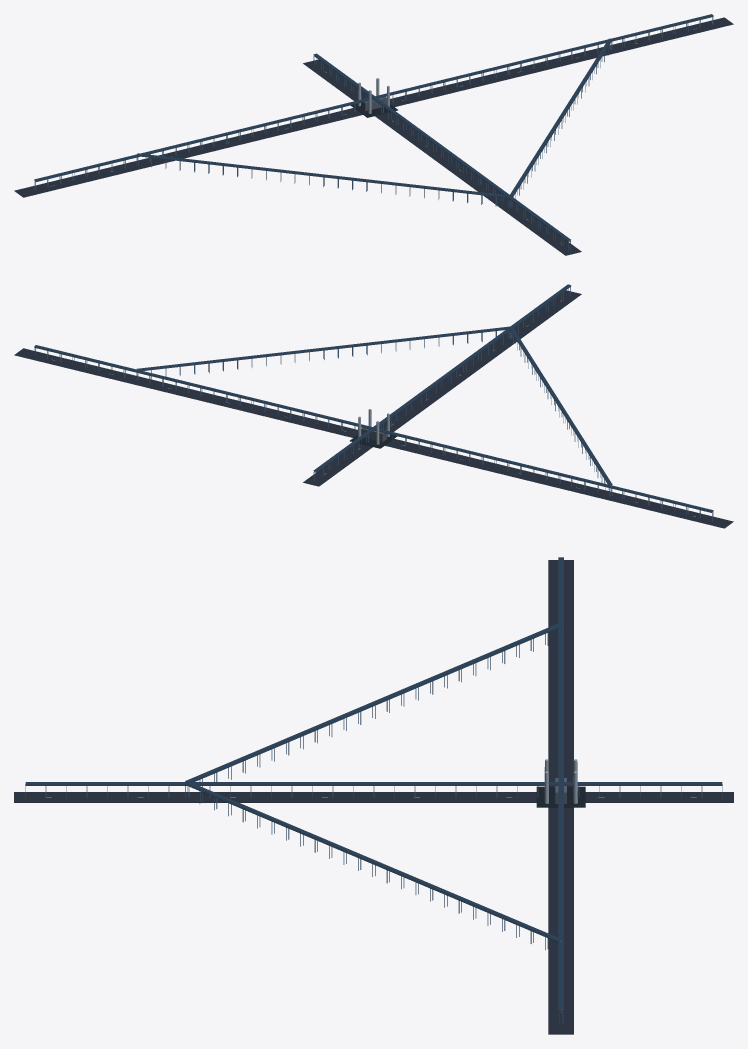
File: chunk-campus-inter-sector.detailed.glb
The picture shows the model from 3 angles, top to bottom: view 1: azimuth 30°, elevation 25°; view 2: azimuth 150°, elevation 25°; view 3: azimuth 270°, elevation 25°; orthographic projection. The views are drawn at different scales.
Parts seen in each view (by area): view 1: dtmesh:0:1, dtmesh:0:0 (×2); view 2: dtmesh:0:1, dtmesh:0:0 (×2); view 3: dtmesh:0:1, dtmesh:0:0 (×2).
Part boxes in pixels (x1,y1,x2,y2): dtmesh:0:1: [14, 17, 733, 255]; dtmesh:0:0 (×2): [34, 14, 713, 250]; dtmesh:0:1: [14, 290, 733, 528]; dtmesh:0:0 (×2): [34, 284, 713, 521]; dtmesh:0:1: [14, 560, 733, 1034]; dtmesh:0:0 (×2): [25, 557, 722, 1023].
Bounding box in the file's own units: 780 × 24 × 500.
